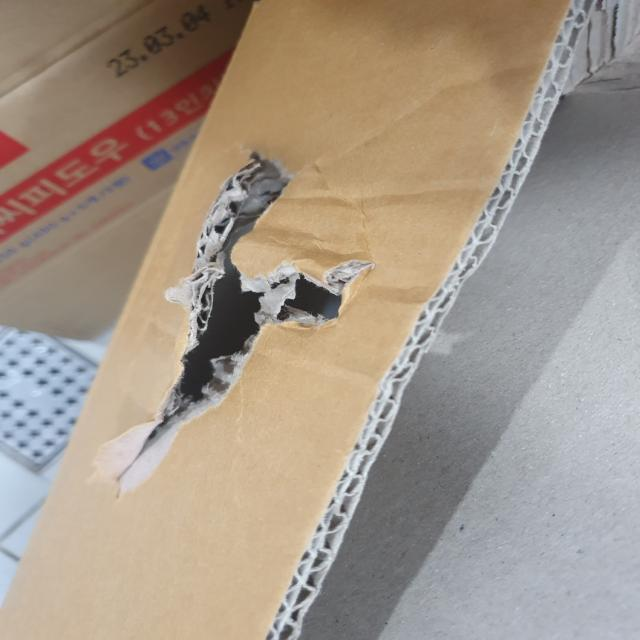hole: (167, 171, 360, 439)
